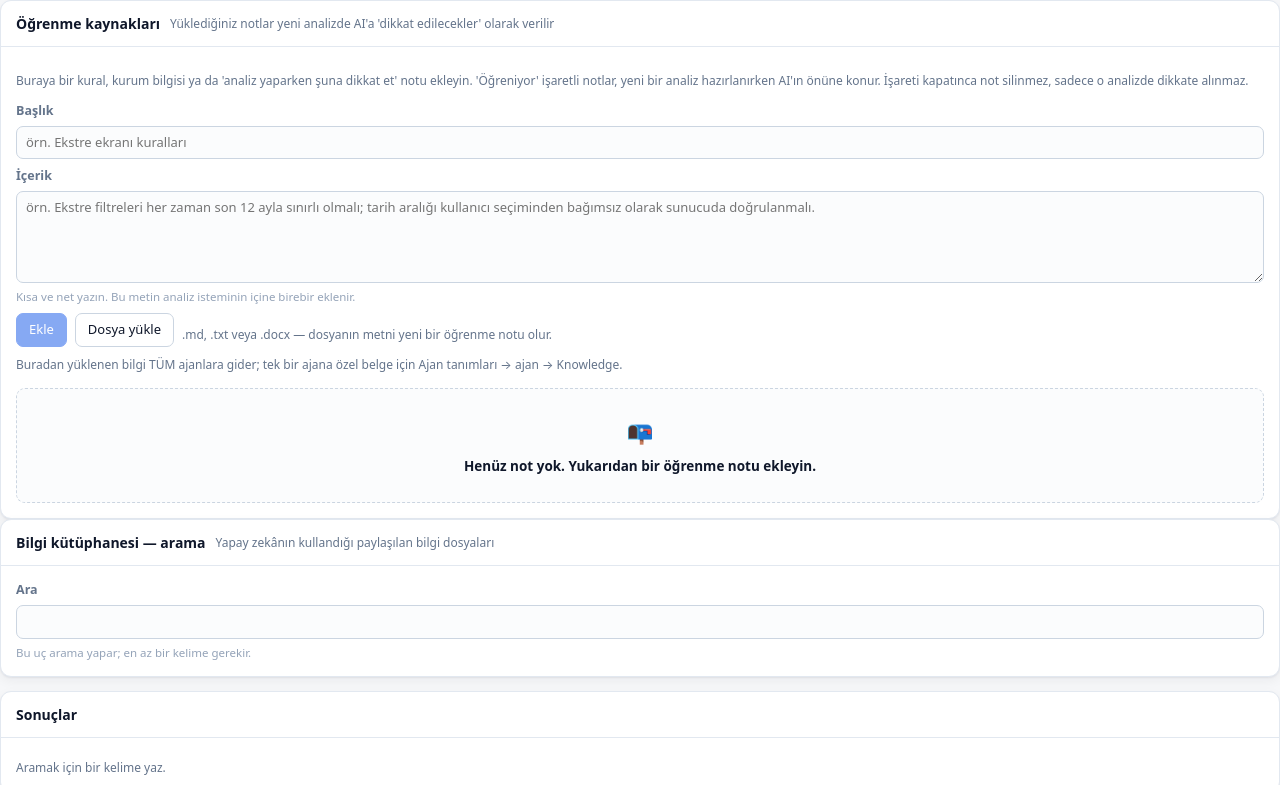
Test: KnowledgeScreen (data class fails closed) › counts both what the server withheld and what it dropped itself
Type "limit" into the field labelled "Ara" at x=640, y=622, box top-left (16, 605), bottom-right (1264, 639)
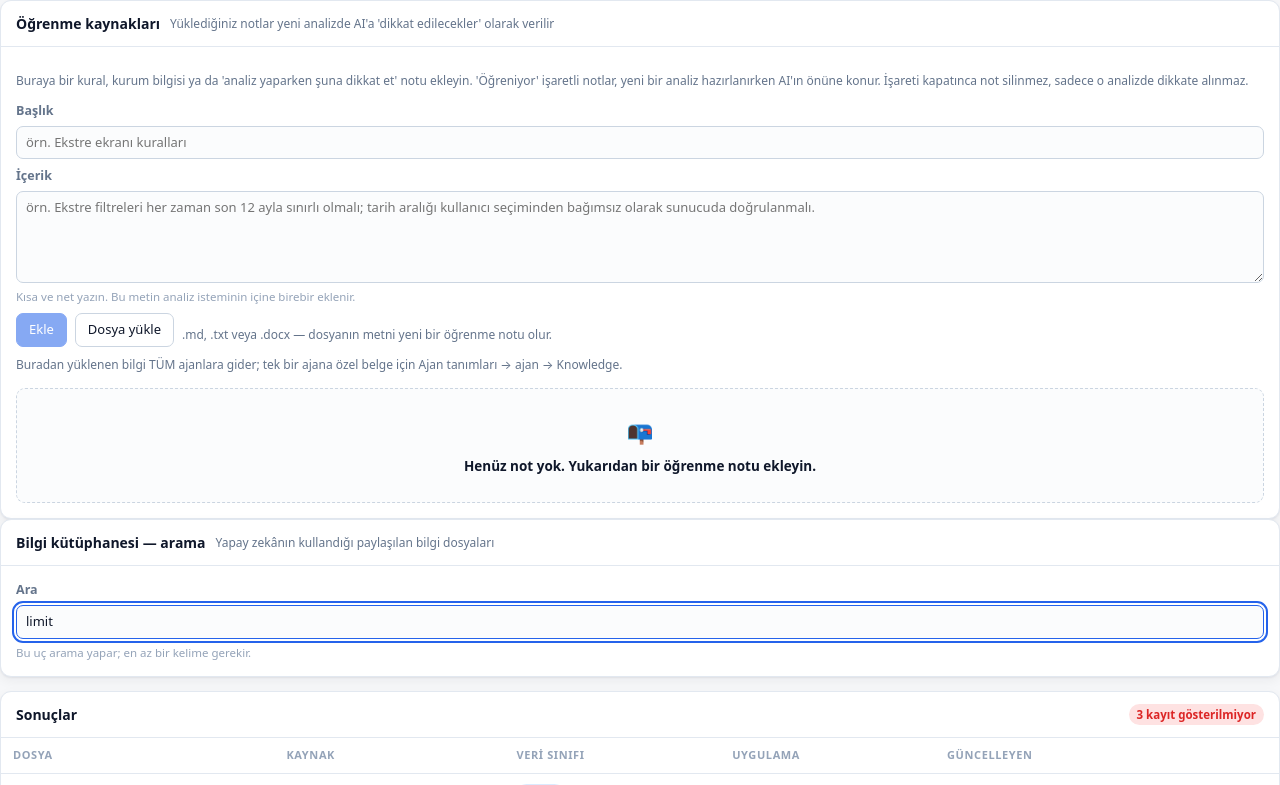
Now the text "3 kayıt gösterilmiyor" is shown, box top-left (1128, 704), bottom-right (1264, 725)
